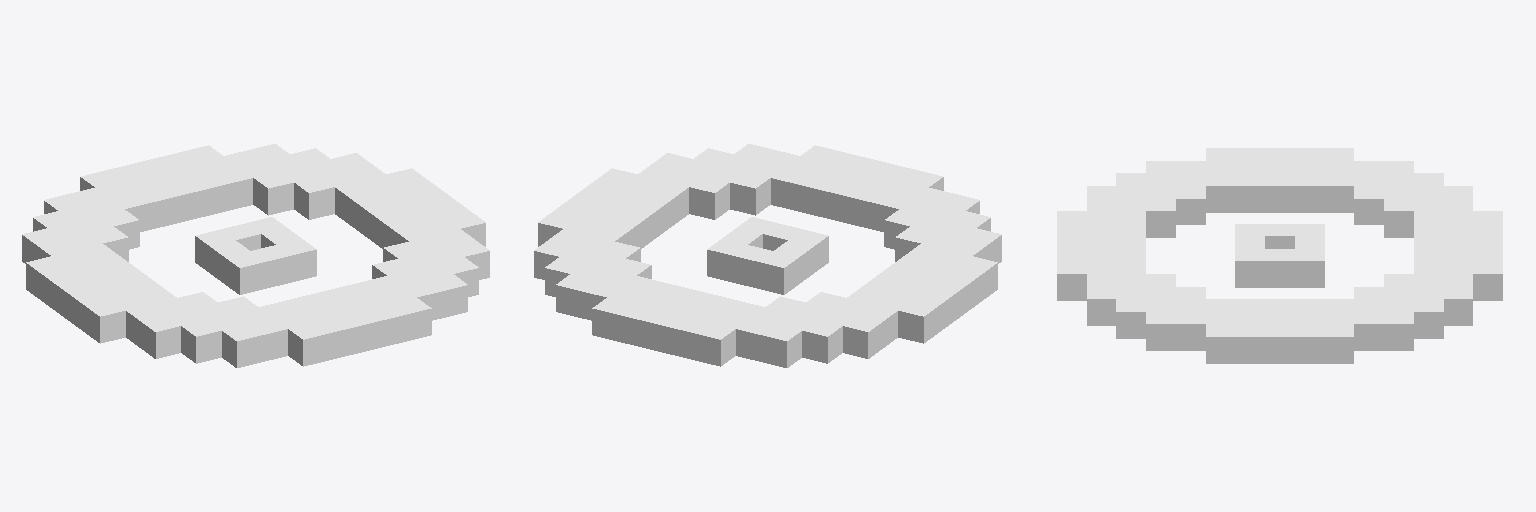
The model's file is arrowTarget.obj.
3 renders of one model, left to right at view 1: azimuth 30°, elevation 25°; view 2: azimuth 150°, elevation 25°; view 3: azimuth 270°, elevation 25°, orthographic.
Parts seen in each view (by area): view 1: arrowTarget; view 2: arrowTarget; view 3: arrowTarget.
Boxes of the visible parts, box(x1,y1,x2,y2) form: arrowTarget: box(22, 144, 489, 367); arrowTarget: box(534, 144, 1001, 367); arrowTarget: box(1057, 148, 1502, 363).
Bounding box in the file's own units: 15 × 1 × 15.